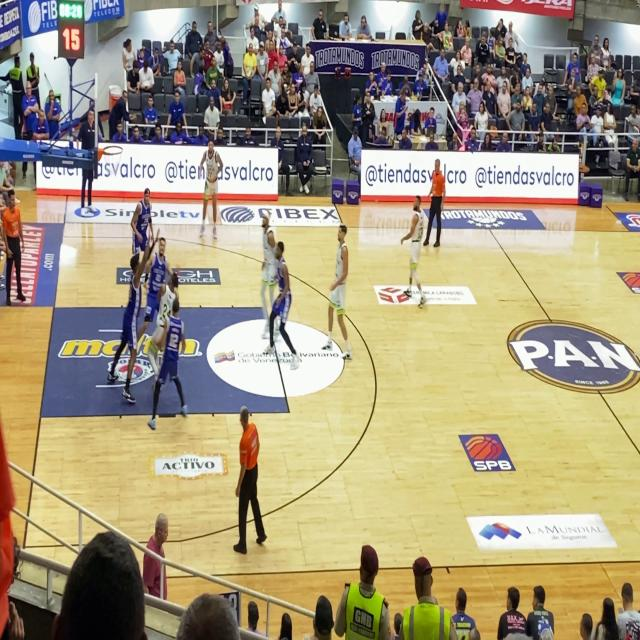referee: (228, 396, 276, 552), (0, 180, 32, 313), (428, 141, 458, 270)
team1: (321, 203, 360, 361), (398, 172, 437, 328), (198, 133, 234, 257), (248, 197, 284, 310), (151, 268, 176, 336)
team2: (115, 248, 147, 405), (267, 231, 302, 373), (158, 277, 190, 424), (127, 187, 153, 256), (150, 225, 172, 299)
ubasket: (100, 142, 126, 161)
